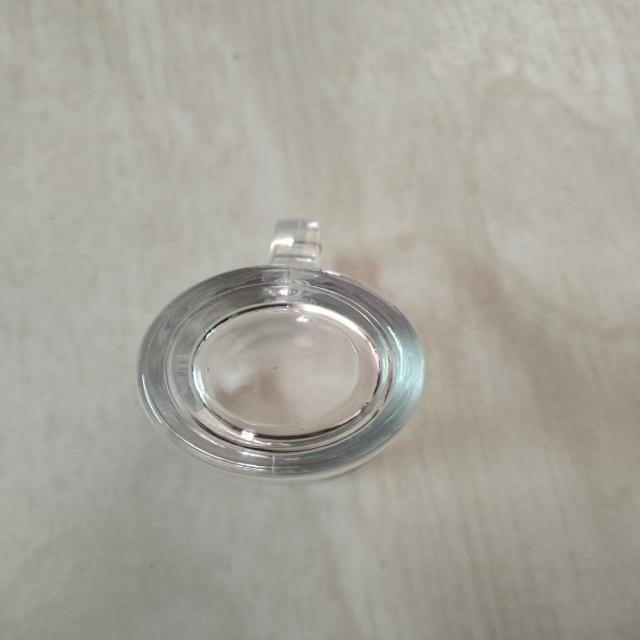glass-VX4N: (137, 217, 425, 484)
